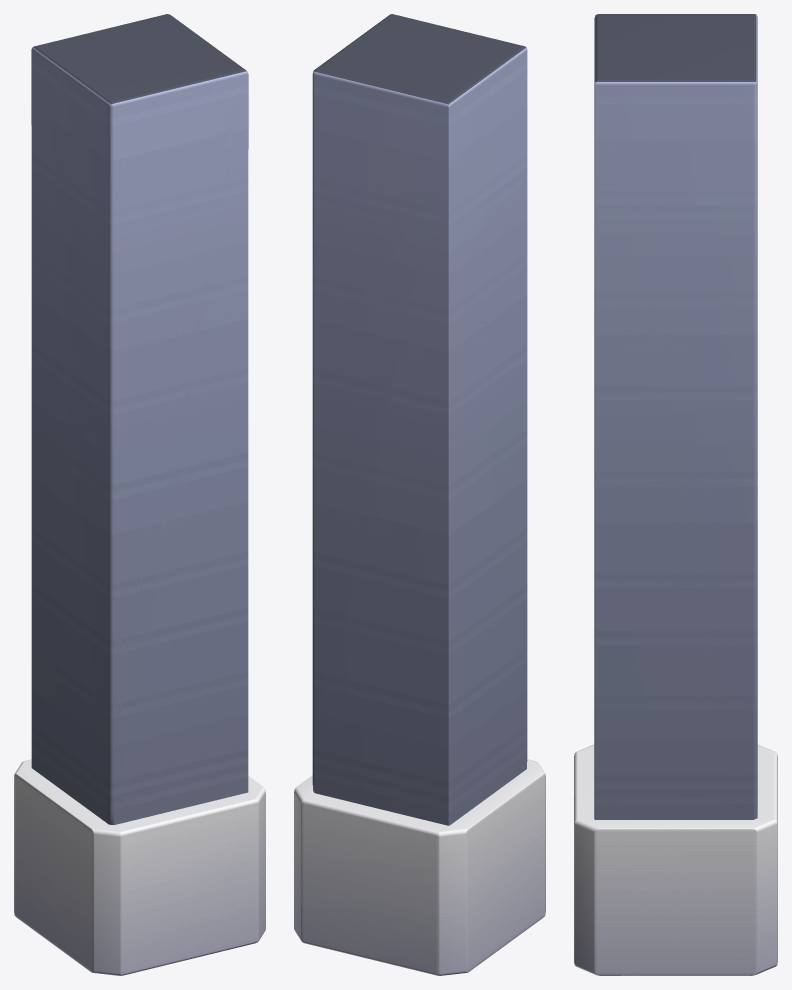
The model's file is column.glb.
3 views of the same model, side by side, from view 1: azimuth 30°, elevation 25°; view 2: azimuth 150°, elevation 25°; view 3: azimuth 270°, elevation 25° (orthographic). The views are drawn at different scales.
Parts seen in each view (by area): view 1: column; view 2: column; view 3: column.
Boxes of the visible parts, x1,y1,x2,y2 form: column: (14,14,265,975); column: (294,14,545,975); column: (574,14,777,975).
Bounding box in the file's own units: 0.5001 × 2.4 × 0.5.
Materials: 1 (1 with a texture image).
